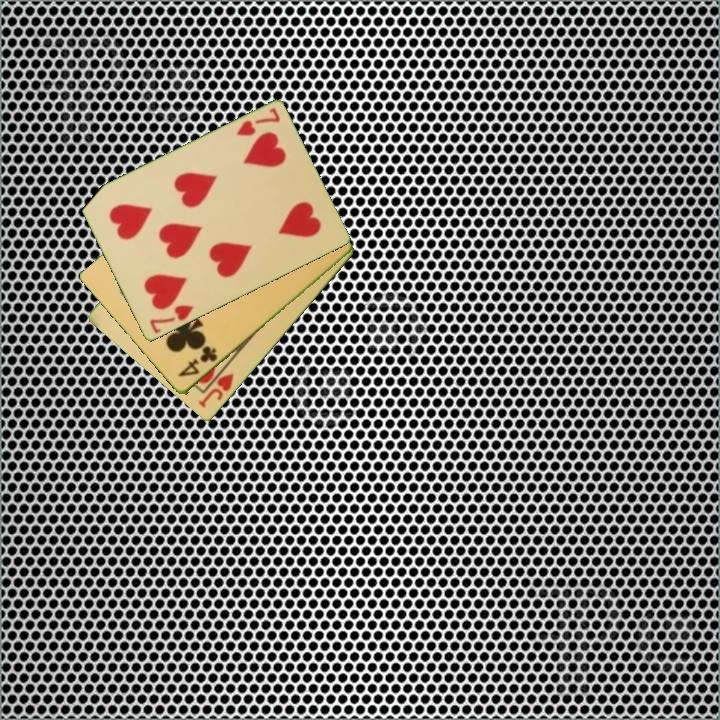4c: (175, 343, 221, 380)
7h: (146, 302, 197, 337), (232, 105, 283, 139)
Jh: (195, 370, 237, 411)
